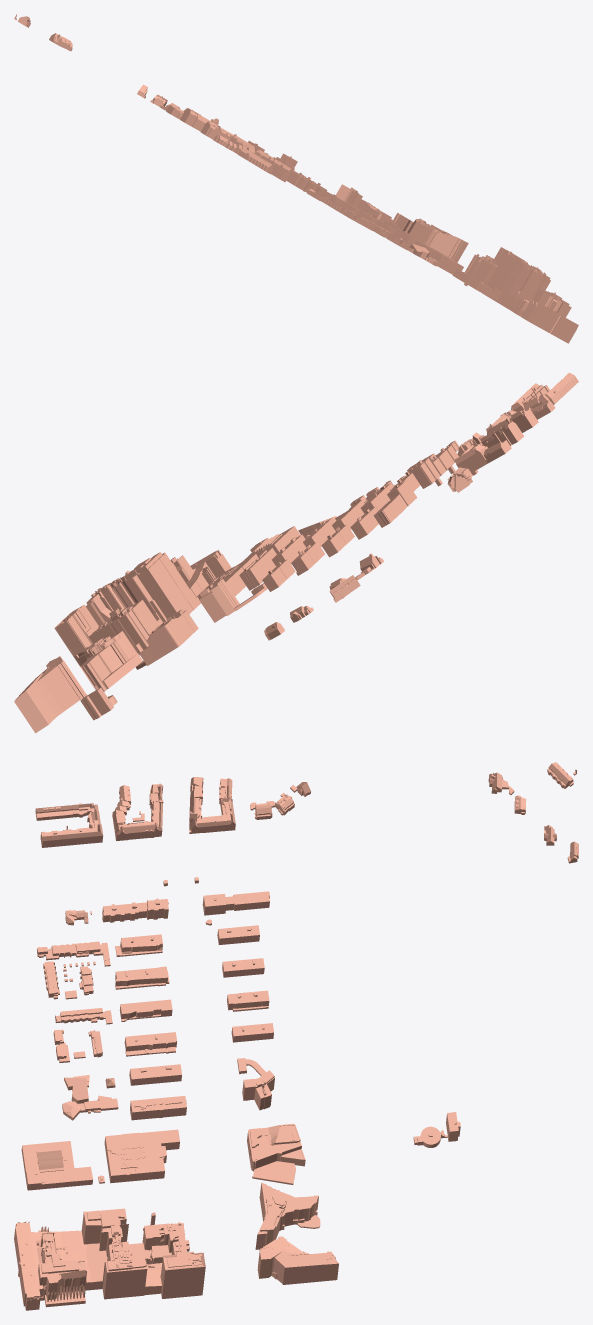
The picture shows the model from 3 angles, top to bottom: view 1: azimuth 30°, elevation 25°; view 2: azimuth 150°, elevation 25°; view 3: azimuth 270°, elevation 25°; orthographic projection. The views are drawn at different scales.
Bounding box in the file's own units: 1.9e+07 × 1.33e+07 × 2.01e+07.
